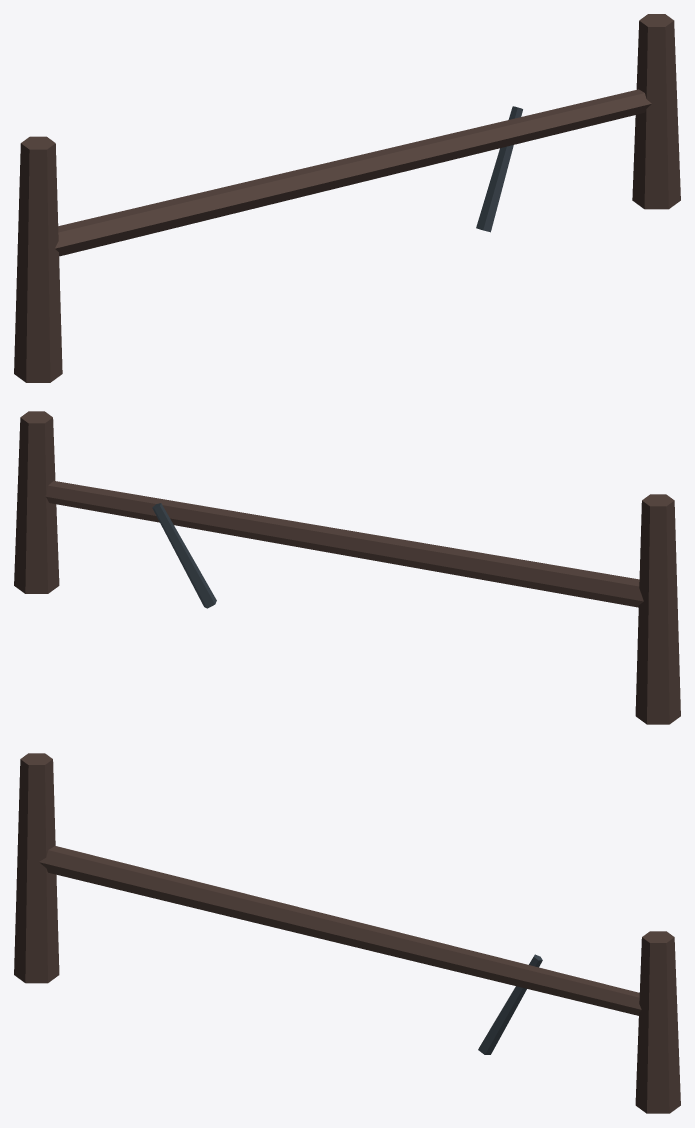
Rendered from EXTG_SouthFence_01.glb.
The picture shows the model from 3 angles, top to bottom: view 1: azimuth 30°, elevation 25°; view 2: azimuth 150°, elevation 25°; view 3: azimuth 330°, elevation 25°; orthographic projection. The views are drawn at different scales.
Parts seen in each view (by area): view 1: EXTG_SouthFence_01; view 2: EXTG_SouthFence_01; view 3: EXTG_SouthFence_01.
Part boxes in pixels (x1,y1,x2,y2): EXTG_SouthFence_01: [14, 14, 680, 382]; EXTG_SouthFence_01: [14, 411, 680, 724]; EXTG_SouthFence_01: [14, 753, 680, 1113].
Bounding box in the file's own units: 3.38 × 1.1 × 0.41.
